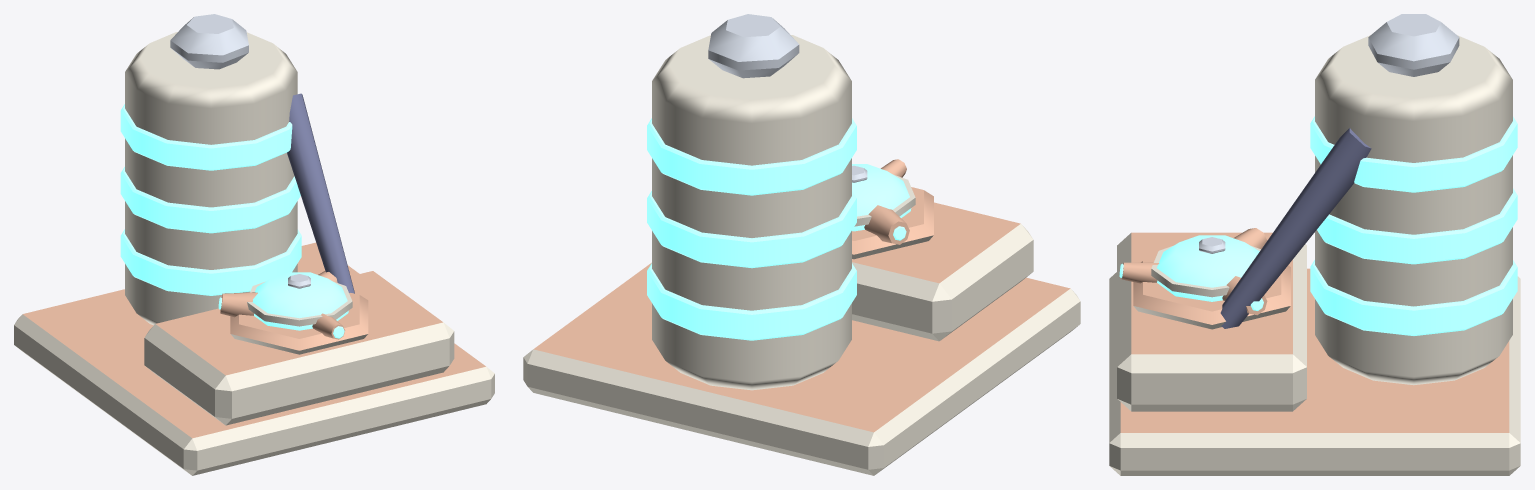
The model's file is R4X_SlowTrapDeployer_LOD1.fbx.
3 views of the same model, side by side, from view 1: azimuth 30°, elevation 25°; view 2: azimuth 150°, elevation 25°; view 3: azimuth 270°, elevation 25° (orthographic). The views are drawn at different scales.
Visible parts, largest first — view 1: R4X_SlowTrapDeployer_LOD1; view 2: R4X_SlowTrapDeployer_LOD1; view 3: R4X_SlowTrapDeployer_LOD1.
Boxes of the visible parts, left/top/right/bottom form: R4X_SlowTrapDeployer_LOD1: left=14, top=14, right=494, bottom=475; R4X_SlowTrapDeployer_LOD1: left=523, top=14, right=1080, bottom=475; R4X_SlowTrapDeployer_LOD1: left=1109, top=14, right=1520, bottom=475.
Size of the model in its own units: 0.52 by 0.5145 by 0.52.
